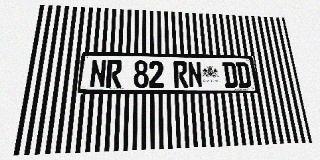2: (149, 61, 164, 88)
8: (134, 60, 149, 88)
D: (235, 62, 252, 88), (222, 62, 238, 88)
N: (89, 59, 107, 88), (187, 61, 203, 88)
R: (106, 60, 122, 88), (173, 61, 188, 88)
